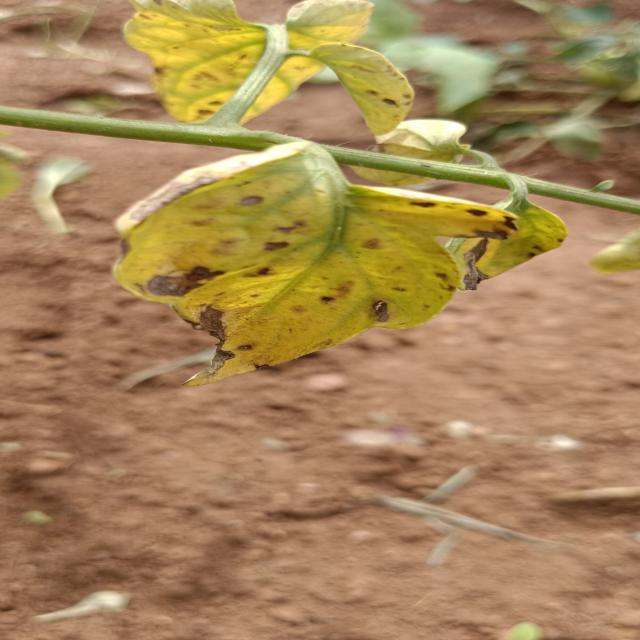tomato_early blight: (111, 140, 518, 386), (109, 0, 378, 121)
